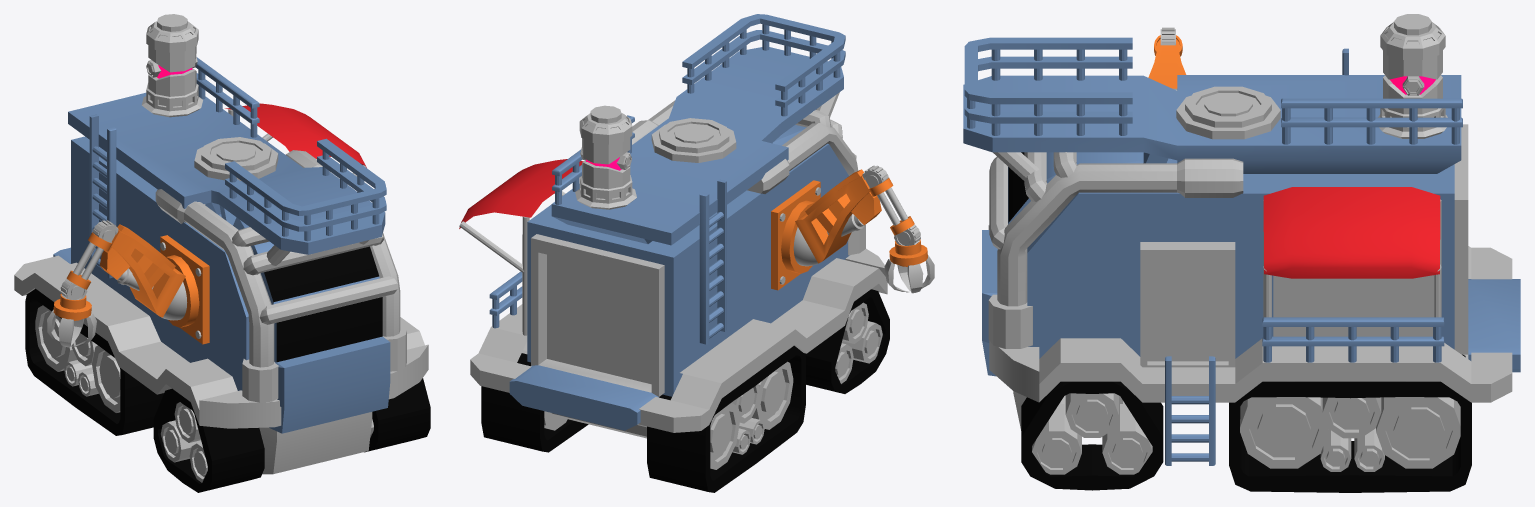
The model's file is Tread Truck uvmapped.fbx.
The picture shows the model from 3 angles, left to right: view 1: azimuth 30°, elevation 25°; view 2: azimuth 150°, elevation 25°; view 3: azimuth 270°, elevation 25°; orthographic projection. The views are drawn at different scales.
Parts seen in each view (by area): view 1: Cube.002, Cylinder.002; view 2: Cube.002, Cylinder.002; view 3: Cube.002, Cylinder.002.
Boxes of the visible parts, x1=… form: Cube.002: x1=14, y1=57, x2=430, y2=492; Cylinder.002: x1=141, y1=14, x2=202, y2=117; Cube.002: x1=459, y1=14, x2=934, y2=492; Cylinder.002: x1=575, y1=105, x2=636, y2=209; Cube.002: x1=963, y1=27, x2=1520, y2=492; Cylinder.002: x1=1378, y1=14, x2=1447, y2=138.
Size of the model in its own units: 597 by 536 by 657.
